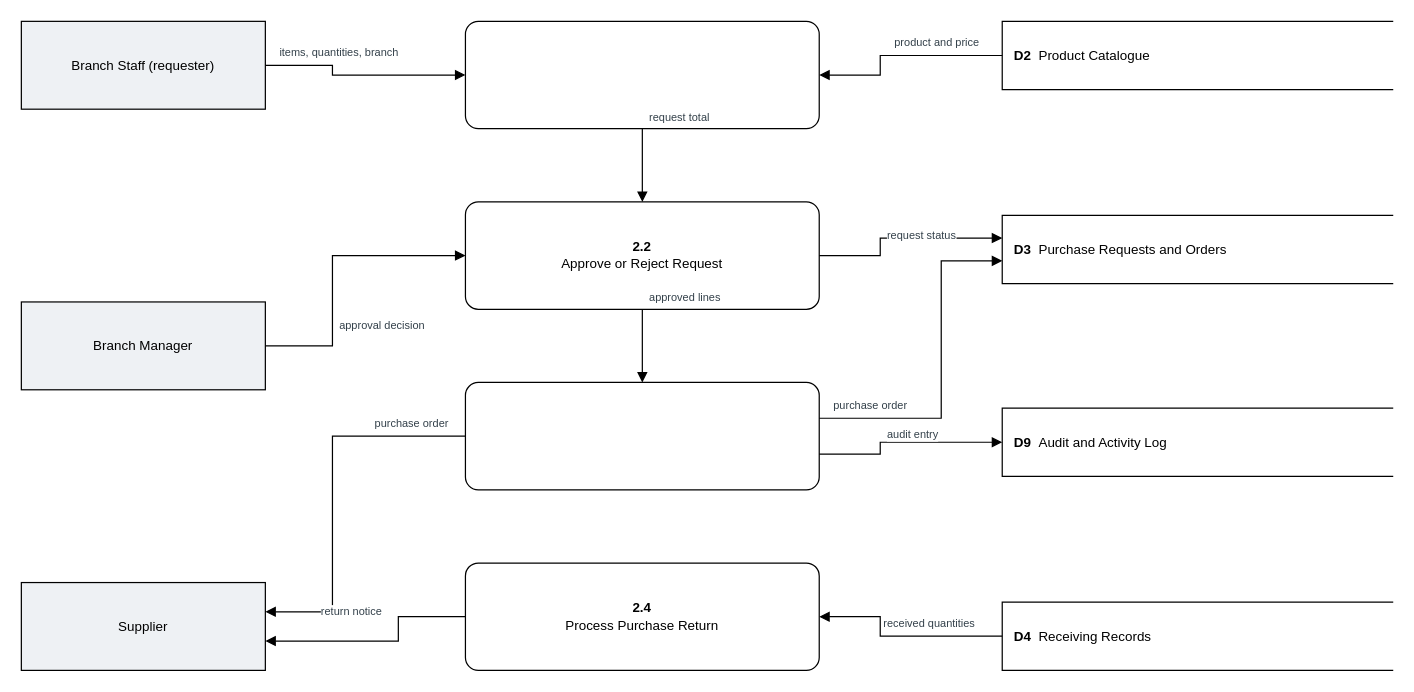
This 1414x692 diagram has some shape labels left out. The shapes that lost their labels are listed below. From the top down, each one's box as (x1, y1, x2, y2) in pixels, then its label:
(464, 20, 819, 129): 2.1 Encode Purchase Request
(464, 381, 819, 490): 2.3 Create Purchase Order
